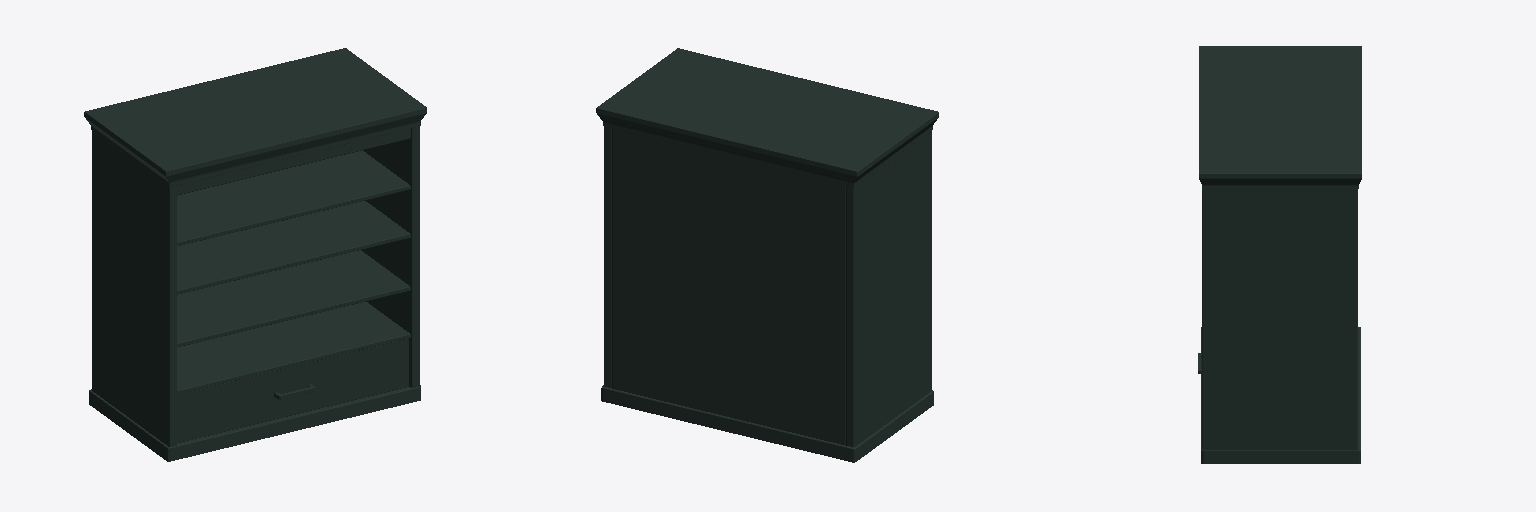
The model's file is BookShelf.obj.
3 renders of one model, left to right at view 1: azimuth 30°, elevation 25°; view 2: azimuth 150°, elevation 25°; view 3: azimuth 270°, elevation 25°, orthographic.
Visible parts, largest first — view 1: polySurface9, polySurface8, pCube12; view 2: polySurface9; view 3: polySurface9.
Part boxes in pixels (left/top/right/bottom): polySurface9: left=84, top=48, right=426, bottom=461; polySurface8: left=177, top=150, right=410, bottom=394; pCube12: left=177, top=339, right=408, bottom=442; polySurface9: left=596, top=48, right=938, bottom=462; polySurface9: left=1199, top=46, right=1361, bottom=463.
Bounding box in the file's own units: 208 × 222 × 113.